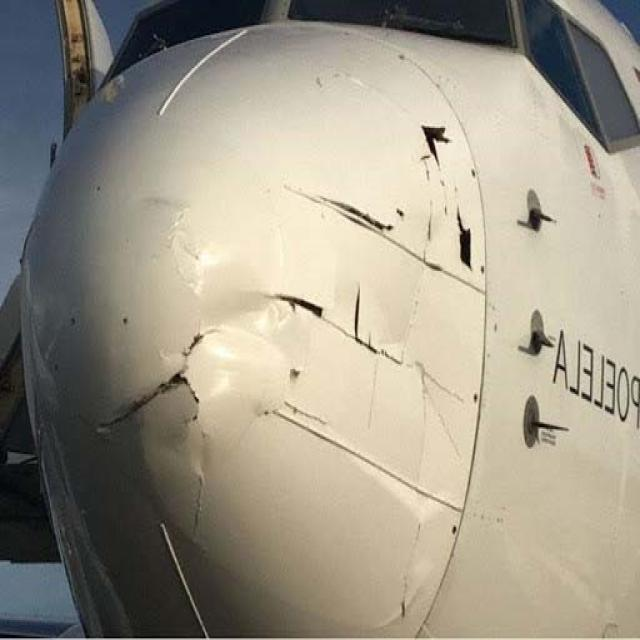Rupture: (115, 328, 231, 442), (349, 286, 390, 389), (328, 180, 398, 238), (418, 104, 452, 174), (280, 293, 326, 329), (454, 212, 474, 278)
